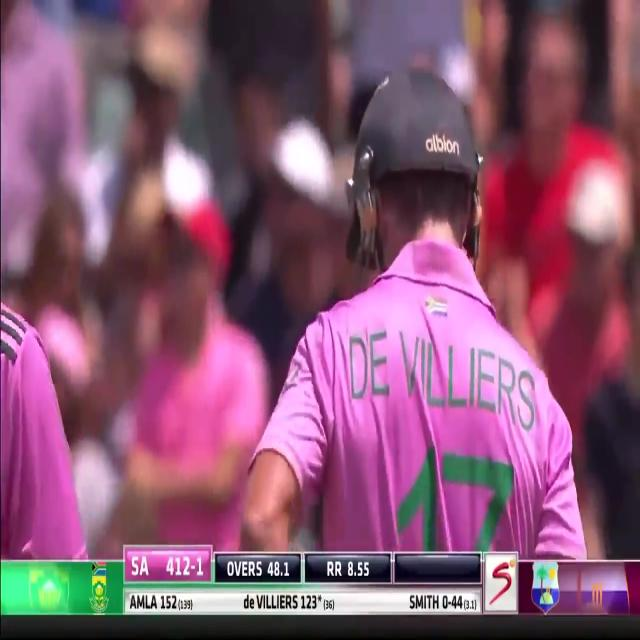Ball: (250, 62, 582, 560), (0, 14, 86, 558)
